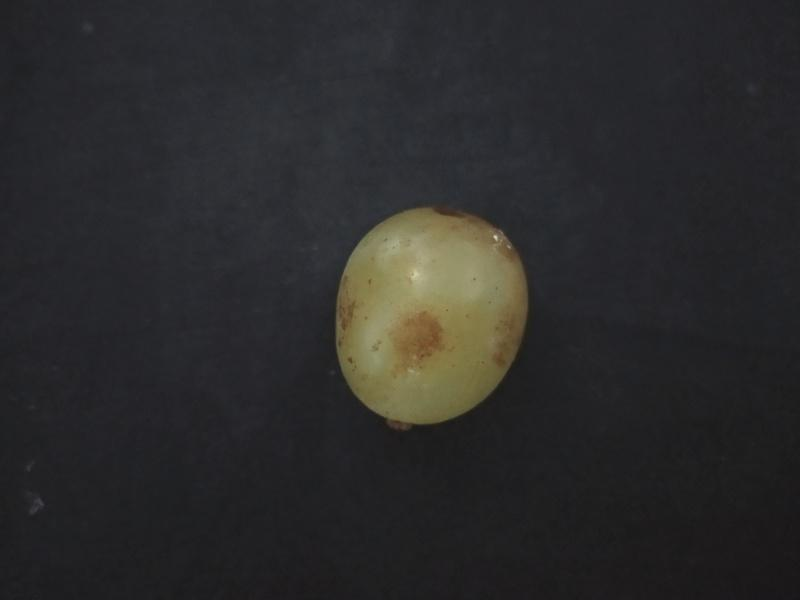Grape Rotten: (330, 201, 532, 433)
